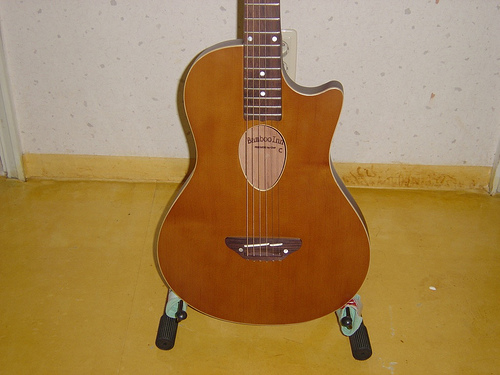guitar: (154, 1, 374, 329)
